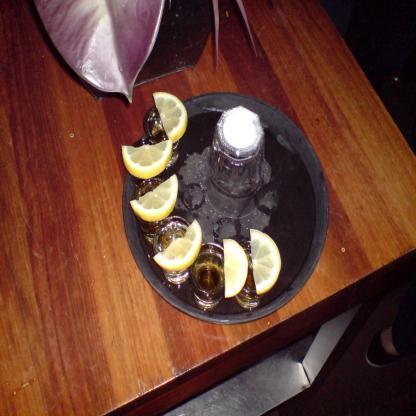lemon: (152, 218, 202, 272), (129, 173, 179, 222), (122, 138, 174, 180), (250, 228, 281, 296), (152, 91, 188, 144), (223, 238, 249, 298)
